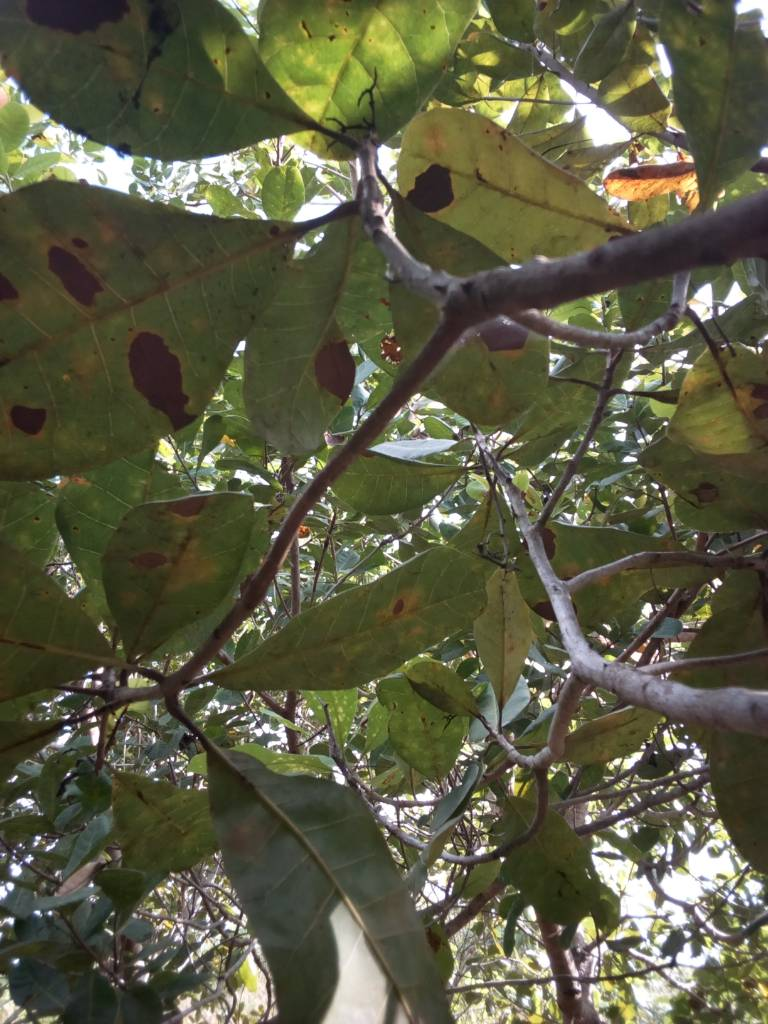Dysdercus wolkerii: (1, 177, 310, 488)
